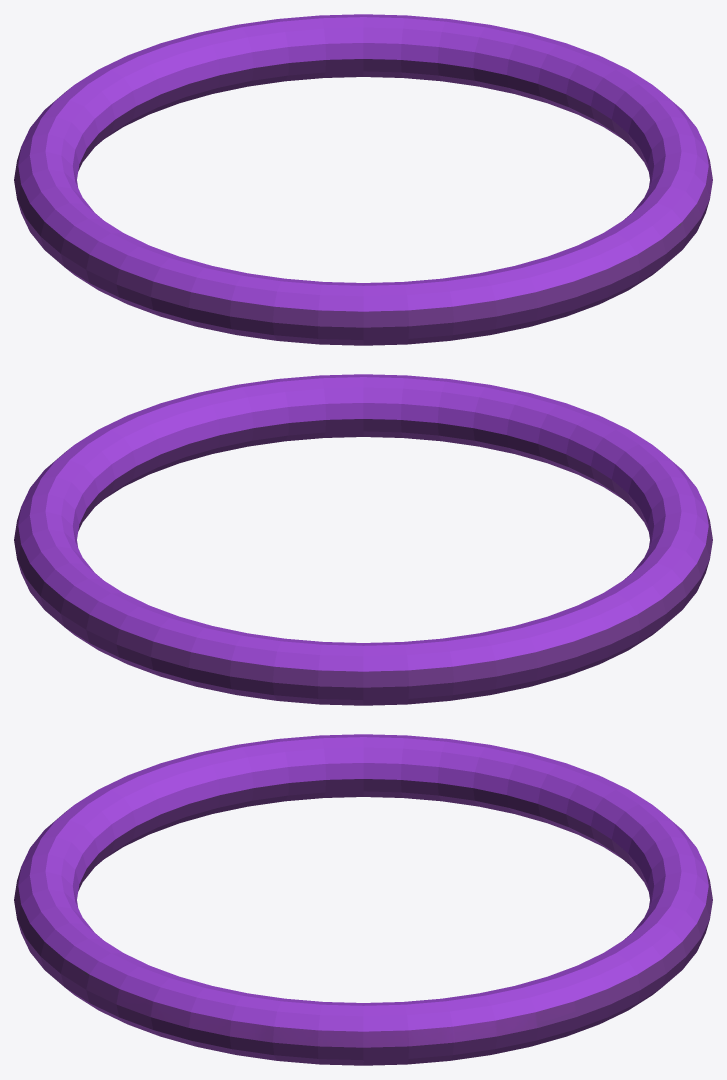
The model's file is Enchanting_Shrine_Ring 1.fbx.
3 views of the same model, one above another, from view 1: azimuth 30°, elevation 25°; view 2: azimuth 150°, elevation 25°; view 3: azimuth 270°, elevation 25° (orthographic).
Visible parts, largest first — view 1: Torus; view 2: Torus; view 3: Torus.
Boxes of the visible parts, x1=… form: Torus: x1=14, y1=14, x2=712, y2=345; Torus: x1=14, y1=374, x2=712, y2=705; Torus: x1=14, y1=734, x2=712, y2=1065.
Bounding box in the file's own units: 222 × 20 × 222.
1 material, 1 textured.
